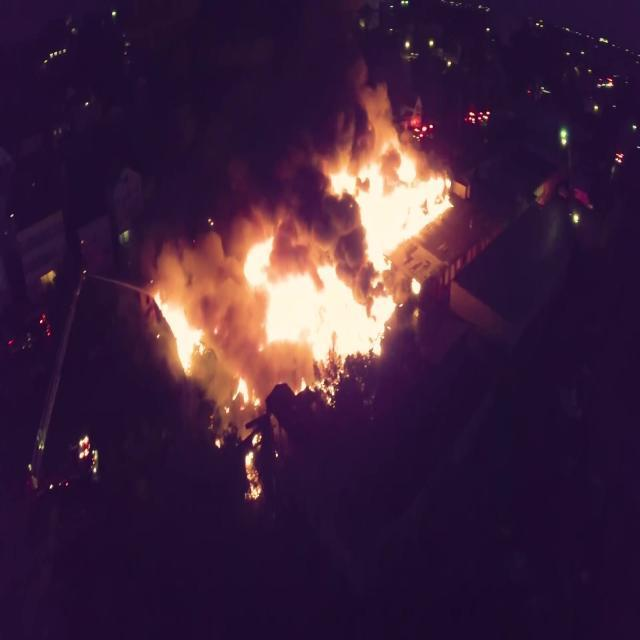Fire: (243, 236, 395, 360), (329, 138, 456, 266), (144, 286, 208, 381), (246, 429, 266, 504), (235, 370, 260, 410)
Smoke: (138, 26, 448, 325)
